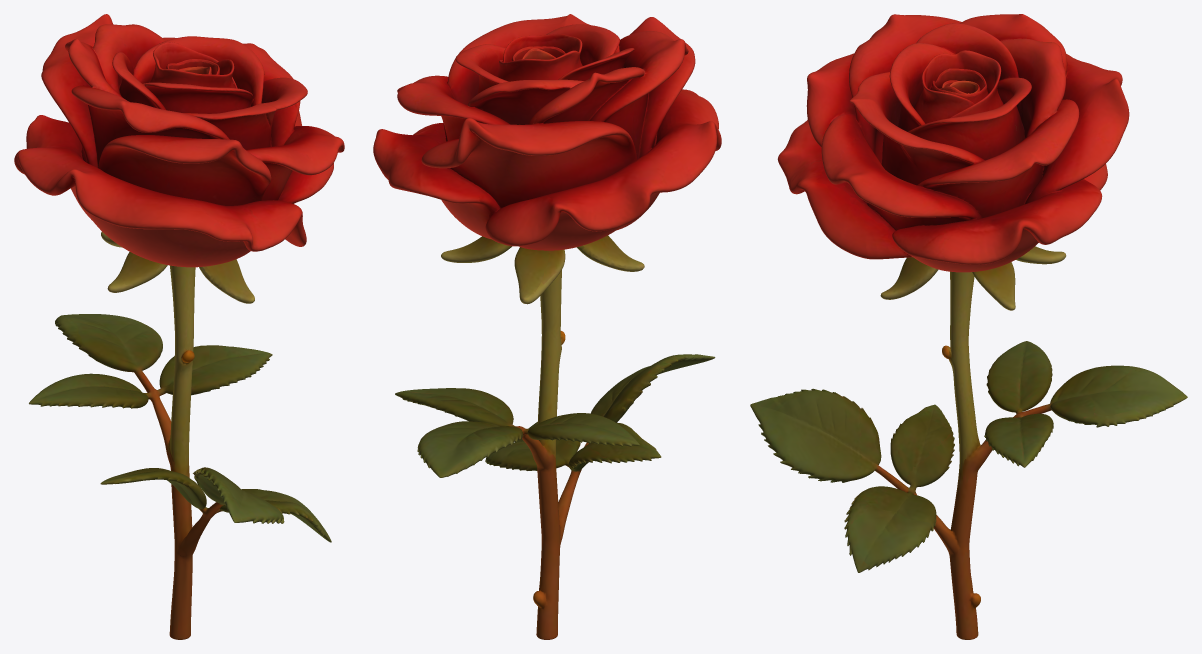
Rendered from redrose1.glb.
3 renders of one model, left to right at view 1: azimuth 30°, elevation 25°; view 2: azimuth 150°, elevation 25°; view 3: azimuth 270°, elevation 25°, orthographic. The views are drawn at different scales.
Parts seen in each view (by area): view 1: tripo_node_5e1dd317-e978-4070-bd1b-ec4ce3d9e872; view 2: tripo_node_5e1dd317-e978-4070-bd1b-ec4ce3d9e872; view 3: tripo_node_5e1dd317-e978-4070-bd1b-ec4ce3d9e872.
Boxes of the visible parts, x1,y1,x2,y2 form: tripo_node_5e1dd317-e978-4070-bd1b-ec4ce3d9e872: [14, 14, 344, 639]; tripo_node_5e1dd317-e978-4070-bd1b-ec4ce3d9e872: [373, 14, 721, 639]; tripo_node_5e1dd317-e978-4070-bd1b-ec4ce3d9e872: [750, 14, 1187, 639].
Bounding box in the file's own units: 0.4962 × 0.9781 × 0.6626.
Materials: 1 (1 with a texture image).
